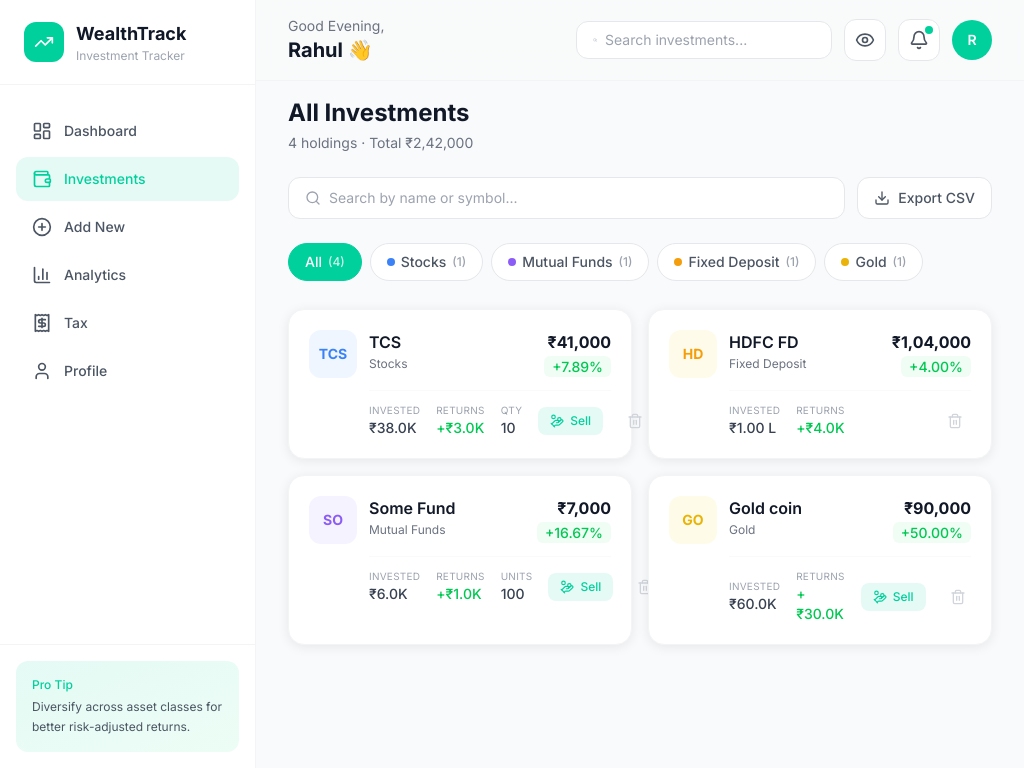
Test: Sell dialog › records a full sale: sends price per unit, dates and expenses, then confirms
Expected: the heading "TCS" is shown, [369,332,401,352]
Click the button "Sell" next to "Qty" at {"x": 571, "y": 420}, box [538,406,603,434]
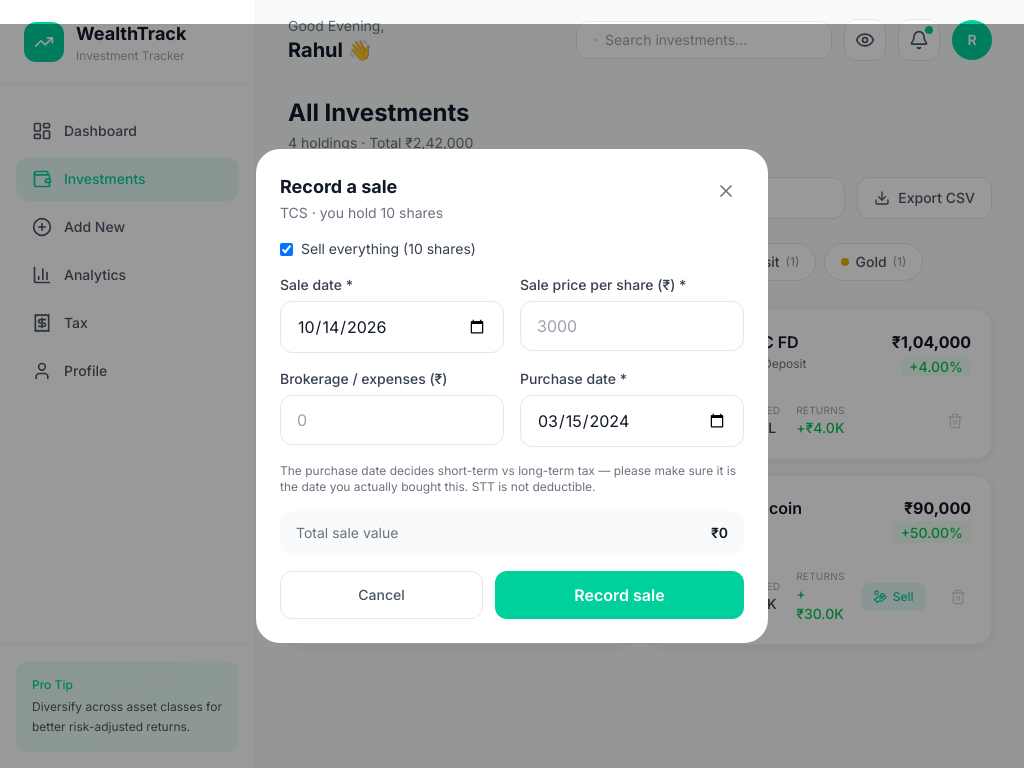
Expected: the text "TCS · you hold 10 shares" is shown, [280,203,443,223]
Expected: the date field below "Purchase date *" holds "2024-03-15", [520,395,744,447]
Type "4200" into the number field with placeholder "3000" at {"x": 632, "y": 326}, box [520,301,744,351]
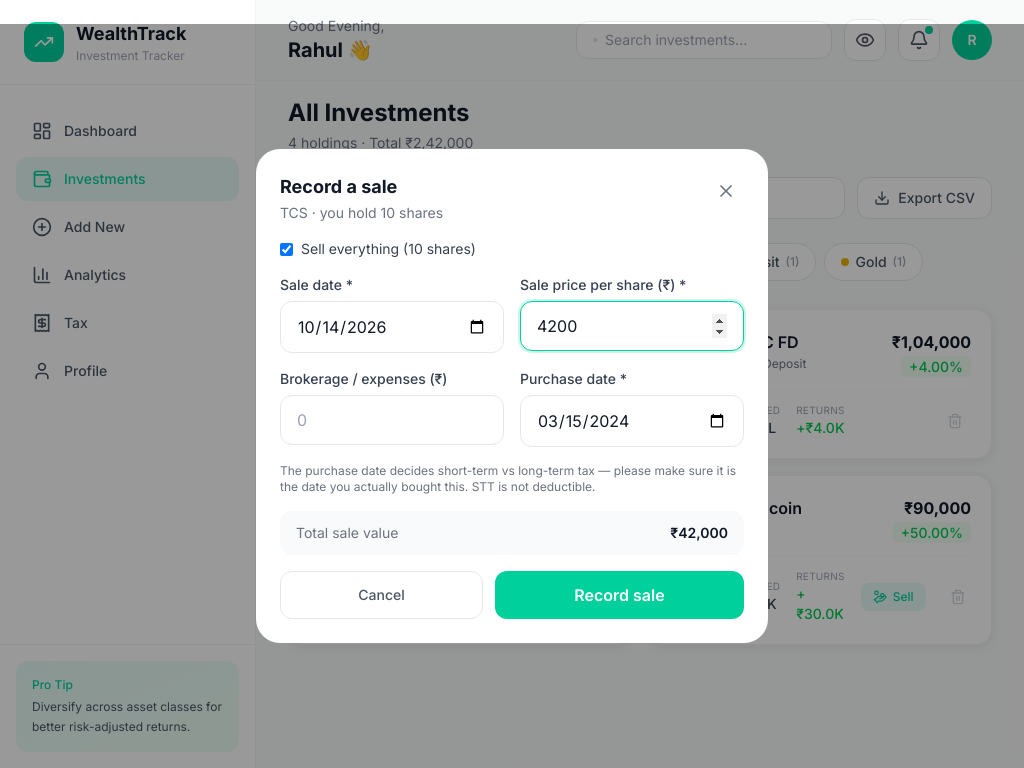
Type "60" into the number field with placeholder "0" at {"x": 392, "y": 420}, box [280,395,504,445]
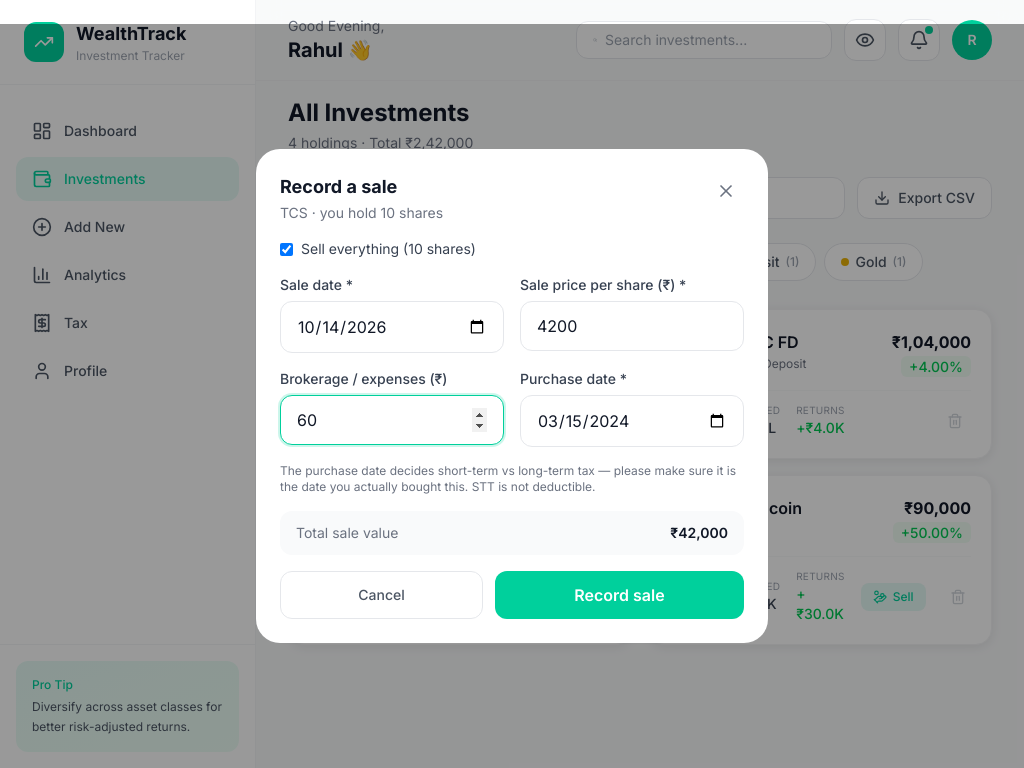
Expected: the text "₹42,000" is shown, [670,523,728,543]
Click the button "Record sale" at {"x": 620, "y": 595}, box [495,571,744,619]
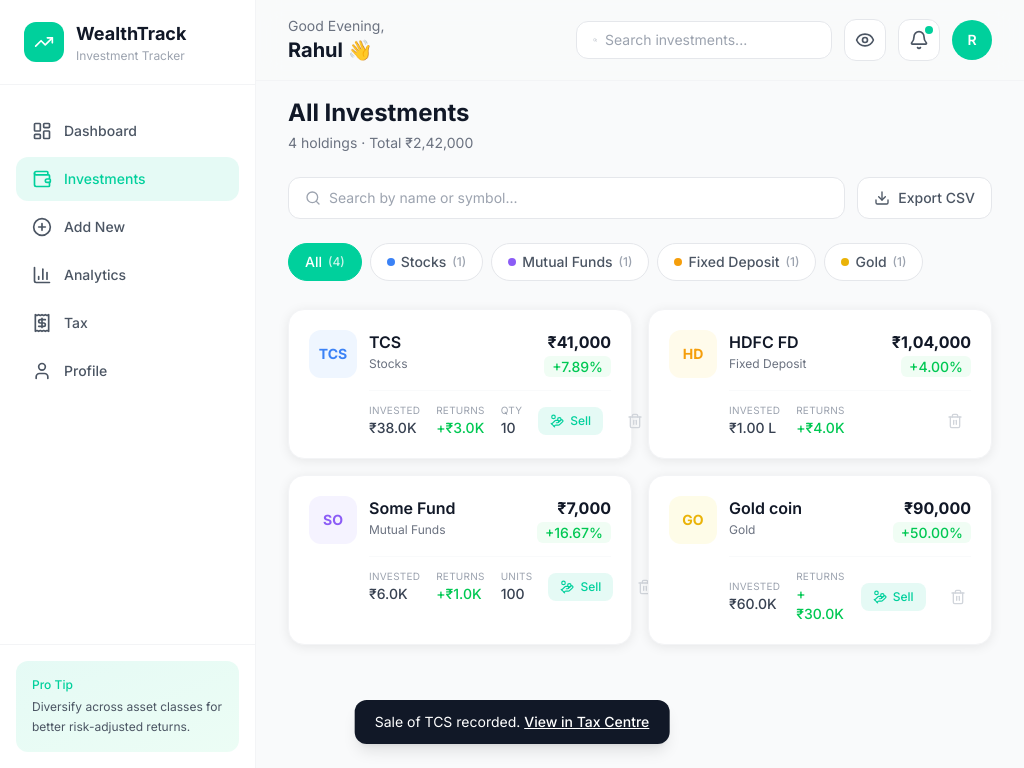
Expected: the text "Sale of TCS recorded. View in Tax Centre" is shown, [355,700,669,744]
Expected: the dialog is gone
